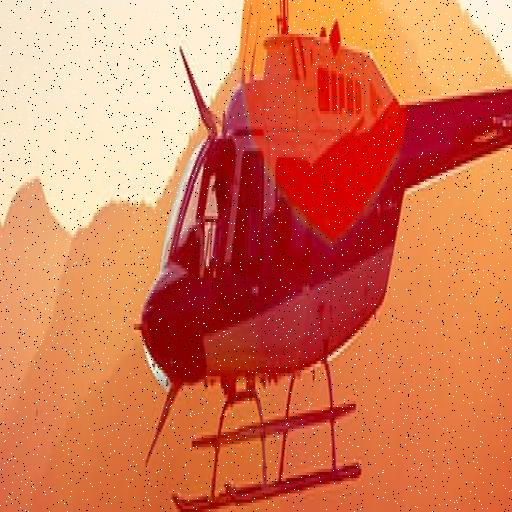helicopter: (2, 1, 512, 512)
